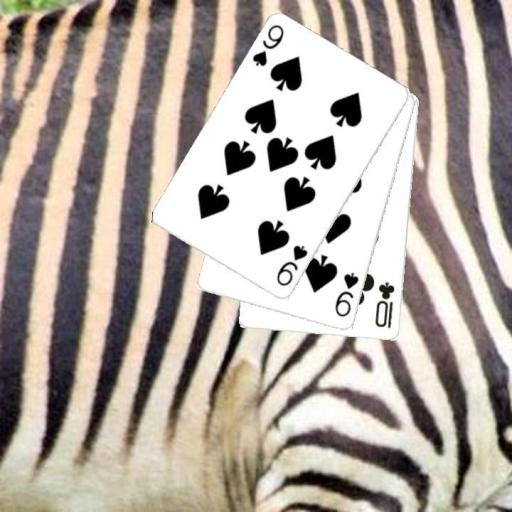10C: (372, 279, 397, 330)
9S: (249, 21, 286, 69), (273, 242, 309, 288), (332, 270, 361, 319)
